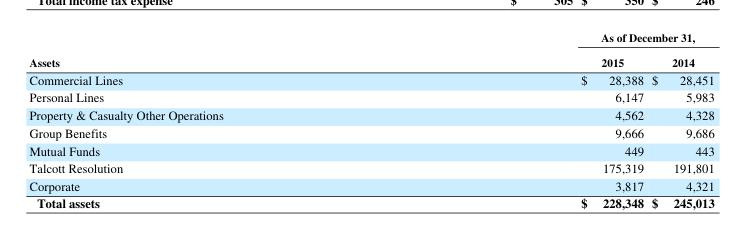table: (28, 29, 713, 211)
table column: (28, 29, 401, 211), (401, 29, 647, 211), (647, 29, 713, 211)
table column header: (28, 29, 713, 70)
table row: (28, 49, 713, 70), (28, 29, 713, 49), (28, 87, 713, 105), (28, 105, 713, 123), (28, 140, 713, 158), (28, 158, 713, 176), (28, 193, 713, 211), (28, 70, 713, 87), (28, 123, 713, 140), (28, 176, 713, 193)
table spanning cell: (28, 29, 401, 70), (401, 29, 713, 49)
